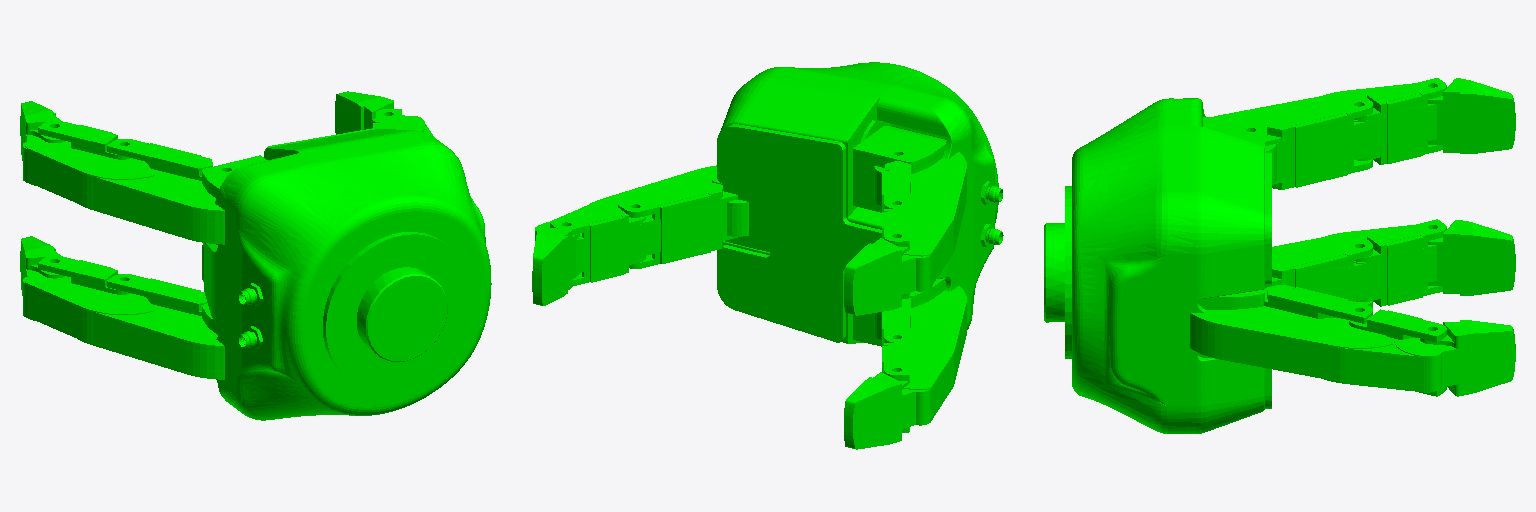
robot.urdf — s-model_articulated:
<?xml version="1.0" ?>
<!-- =================================================================================== -->
<!-- |    This document was autogenerated by xacro from s-model_articulated.xacro      | -->
<!-- |    EDITING THIS FILE BY HAND IS NOT RECOMMENDED                                 | -->
<!-- =================================================================================== -->
<!-- 
s-model_articulated - articulated version of the robotiq s-model,
3 fingered gripper.                                                
-->
<robot name="s-model_articulated" xmlns:xacro="http://ros.org/wiki/xacro">
  <link name="finger_1_link_0">
    <visual>
      <origin rpy="0 0 0" xyz="0.020 0 0"/>
      <geometry>
        <mesh filename="package://robotiq_s_model_visualization/meshes/s-model_articulated/visual/link_0.dae"/>
      </geometry>
      <material name="green">
        <color rgba="0 1 0 1"/>
      </material>
    </visual>
    <collision>
      <origin rpy="0 3.1416 -1.57" xyz="-0.0455 0.0414 0.036"/>
      <geometry>
        <mesh filename="package://robotiq_s_model_visualization/meshes/s-model_articulated/collision/link_0.dae"/>
      </geometry>
      <material name="yellow">
        <color rgba="0 1 1 1"/>
      </material>
    </collision>
    <inertial>
      <origin rpy="0 0 0" xyz="0 0 0"/>
      <mass value="0.05"/>
      <inertia ixx="0.01" ixy="-0.00002" ixz="0.00001" iyy="0.0008" iyz="0" izz="0.001"/>
    </inertial>
  </link>
  <link name="finger_1_link_1">
    <visual>
      <origin rpy="0 0 -0.52" xyz="0.050 -.028 0"/>
      <geometry>
        <mesh filename="package://robotiq_s_model_visualization/meshes/s-model_articulated/visual/link_1.dae"/>
      </geometry>
      <material name="green"/>
    </visual>
    <collision>
      <origin rpy="0 0 -0.52" xyz="0.050 -.028 0"/>
      <geometry>
        <mesh filename="package://robotiq_s_model_visualization/meshes/s-model_articulated/collision/link_1.dae"/>
      </geometry>
      <material name="yellow"/>
    </collision>
    <inertial>
      <origin rpy="0 0 0" xyz="0 0 0"/>
      <mass value="0.15"/>
      <inertia ixx="0.001859" ixy="-0.000376" ixz="0.000028" iyy="0.012756" iyz="0" izz="0.0024"/>
    </inertial>
  </link>
  <link name="finger_1_link_2">
    <!--
			NOTE: This link has an offset in the z-direction based on the models that were
			used to generate grap-it poses.  With the offset below the model appears visually
			correct, but it is suspect.
			-->
    <visual>
      <origin rpy="0 0 0" xyz="0.039 0 0.0075"/>
      <geometry>
        <mesh filename="package://robotiq_s_model_visualization/meshes/s-model_articulated/visual/link_2.dae"/>
      </geometry>
      <material name="green"/>
    </visual>
    <collision>
      <origin rpy="0 0 0" xyz="0.039 0 0.0075"/>
      <geometry>
        <mesh filename="package://robotiq_s_model_visualization/meshes/s-model_articulated/collision/link_2.dae"/>
      </geometry>
      <material name="yellow"/>
    </collision>
    <inertial>
      <origin rpy="0 0 0" xyz="0 0 0"/>
      <mass value="0.15"/>
      <inertia ixx="0.001859" ixy="-0.000376" ixz="0.000028" iyy="0.012756" iyz="0" izz="0.0024"/>
    </inertial>
  </link>
  <link name="finger_1_link_3">
    <visual>
      <origin rpy="0 0 0.52" xyz="0 0 0"/>
      <geometry>
        <mesh filename="package://robotiq_s_model_visualization/meshes/s-model_articulated/visual/link_3.dae"/>
      </geometry>
      <material name="green"/>
    </visual>
    <collision>
      <origin rpy="0 0 0.52" xyz="0 0 0"/>
      <geometry>
        <mesh filename="package://robotiq_s_model_visualization/meshes/s-model_articulated/collision/link_3.dae"/>
      </geometry>
      <material name="yellow"/>
    </collision>
    <inertial>
      <origin rpy="0 0 0" xyz="0 0 0"/>
      <mass value="0.05"/>
      <inertia ixx="0.001239" ixy="-0.000251" ixz="0.000019" iyy="0.00085" iyz="0" izz="0.001632"/>
    </inertial>
  </link>
  <joint name="finger_1_joint_1" type="revolute">
    <parent link="finger_1_link_0"/>
    <child link="finger_1_link_1"/>
    <axis xyz="0 0 1"/>
    <origin rpy="0 0 0" xyz="0.020 0 0"/>
    <limit effort="100" lower="0" upper="3.1416" velocity="100"/>
  </joint>
  <joint name="finger_1_joint_2" type="revolute">
    <parent link="finger_1_link_1"/>
    <child link="finger_1_link_2"/>
    <axis xyz="0 0 1"/>
    <origin rpy="0 0 -0.52" xyz="0.050 -.028 0"/>
    <limit effort="100" lower="0" upper="3.1416" velocity="100"/>
  </joint>
  <joint name="finger_1_joint_3" type="revolute">
    <parent link="finger_1_link_2"/>
    <child link="finger_1_link_3"/>
    <axis xyz="0 0 1"/>
    <origin rpy="0 0 0" xyz="0.039 0 0"/>
    <limit effort="100" lower="0" upper="3.1416" velocity="100"/>
  </joint>
  <link name="finger_2_link_0">
    <visual>
      <origin rpy="0 0 0" xyz="0.020 0 0"/>
      <geometry>
        <mesh filename="package://robotiq_s_model_visualization/meshes/s-model_articulated/visual/link_0.dae"/>
      </geometry>
      <material name="green">
        <color rgba="0 1 0 1"/>
      </material>
    </visual>
    <collision>
      <origin rpy="0 3.1416 -1.57" xyz="-0.0455 0.0414 0.036"/>
      <geometry>
        <mesh filename="package://robotiq_s_model_visualization/meshes/s-model_articulated/collision/link_0.dae"/>
      </geometry>
      <material name="yellow">
        <color rgba="0 1 1 1"/>
      </material>
    </collision>
    <inertial>
      <origin rpy="0 0 0" xyz="0 0 0"/>
      <mass value="0.05"/>
      <inertia ixx="0.01" ixy="-0.00002" ixz="0.00001" iyy="0.0008" iyz="0" izz="0.001"/>
    </inertial>
  </link>
  <link name="finger_2_link_1">
    <visual>
      <origin rpy="0 0 -0.52" xyz="0.050 -.028 0"/>
      <geometry>
        <mesh filename="package://robotiq_s_model_visualization/meshes/s-model_articulated/visual/link_1.dae"/>
      </geometry>
      <material name="green"/>
    </visual>
    <collision>
      <origin rpy="0 0 -0.52" xyz="0.050 -.028 0"/>
      <geometry>
        <mesh filename="package://robotiq_s_model_visualization/meshes/s-model_articulated/collision/link_1.dae"/>
      </geometry>
      <material name="yellow"/>
    </collision>
    <inertial>
      <origin rpy="0 0 0" xyz="0 0 0"/>
      <mass value="0.15"/>
      <inertia ixx="0.001859" ixy="-0.000376" ixz="0.000028" iyy="0.012756" iyz="0" izz="0.0024"/>
    </inertial>
  </link>
  <link name="finger_2_link_2">
    <!--
			NOTE: This link has an offset in the z-direction based on the models that were
			used to generate grap-it poses.  With the offset below the model appears visually
			correct, but it is suspect.
			-->
    <visual>
      <origin rpy="0 0 0" xyz="0.039 0 0.0075"/>
      <geometry>
        <mesh filename="package://robotiq_s_model_visualization/meshes/s-model_articulated/visual/link_2.dae"/>
      </geometry>
      <material name="green"/>
    </visual>
    <collision>
      <origin rpy="0 0 0" xyz="0.039 0 0.0075"/>
      <geometry>
        <mesh filename="package://robotiq_s_model_visualization/meshes/s-model_articulated/collision/link_2.dae"/>
      </geometry>
      <material name="yellow"/>
    </collision>
    <inertial>
      <origin rpy="0 0 0" xyz="0 0 0"/>
      <mass value="0.15"/>
      <inertia ixx="0.001859" ixy="-0.000376" ixz="0.000028" iyy="0.012756" iyz="0" izz="0.0024"/>
    </inertial>
  </link>
  <link name="finger_2_link_3">
    <visual>
      <origin rpy="0 0 0.52" xyz="0 0 0"/>
      <geometry>
        <mesh filename="package://robotiq_s_model_visualization/meshes/s-model_articulated/visual/link_3.dae"/>
      </geometry>
      <material name="green"/>
    </visual>
    <collision>
      <origin rpy="0 0 0.52" xyz="0 0 0"/>
      <geometry>
        <mesh filename="package://robotiq_s_model_visualization/meshes/s-model_articulated/collision/link_3.dae"/>
      </geometry>
      <material name="yellow"/>
    </collision>
    <inertial>
      <origin rpy="0 0 0" xyz="0 0 0"/>
      <mass value="0.05"/>
      <inertia ixx="0.001239" ixy="-0.000251" ixz="0.000019" iyy="0.00085" iyz="0" izz="0.001632"/>
    </inertial>
  </link>
  <joint name="finger_2_joint_1" type="revolute">
    <parent link="finger_2_link_0"/>
    <child link="finger_2_link_1"/>
    <axis xyz="0 0 1"/>
    <origin rpy="0 0 0" xyz="0.020 0 0"/>
    <limit effort="100" lower="0" upper="3.1416" velocity="100"/>
  </joint>
  <joint name="finger_2_joint_2" type="revolute">
    <parent link="finger_2_link_1"/>
    <child link="finger_2_link_2"/>
    <axis xyz="0 0 1"/>
    <origin rpy="0 0 -0.52" xyz="0.050 -.028 0"/>
    <limit effort="100" lower="0" upper="3.1416" velocity="100"/>
  </joint>
  <joint name="finger_2_joint_3" type="revolute">
    <parent link="finger_2_link_2"/>
    <child link="finger_2_link_3"/>
    <axis xyz="0 0 1"/>
    <origin rpy="0 0 0" xyz="0.039 0 0"/>
    <limit effort="100" lower="0" upper="3.1416" velocity="100"/>
  </joint>
  <link name="finger_middle_link_0">
    <visual>
      <origin rpy="0 0 0" xyz="0.020 0 0"/>
      <geometry>
        <mesh filename="package://robotiq_s_model_visualization/meshes/s-model_articulated/visual/link_0.dae"/>
      </geometry>
      <material name="green">
        <color rgba="0 1 0 1"/>
      </material>
    </visual>
    <collision>
      <origin rpy="0 3.1416 -1.57" xyz="-0.0455 0.0414 0.036"/>
      <geometry>
        <mesh filename="package://robotiq_s_model_visualization/meshes/s-model_articulated/collision/link_0.dae"/>
      </geometry>
      <material name="yellow">
        <color rgba="0 1 1 1"/>
      </material>
    </collision>
    <inertial>
      <origin rpy="0 0 0" xyz="0 0 0"/>
      <mass value="0.05"/>
      <inertia ixx="0.01" ixy="-0.00002" ixz="0.00001" iyy="0.0008" iyz="0" izz="0.001"/>
    </inertial>
  </link>
  <link name="finger_middle_link_1">
    <visual>
      <origin rpy="0 0 -0.52" xyz="0.050 -.028 0"/>
      <geometry>
        <mesh filename="package://robotiq_s_model_visualization/meshes/s-model_articulated/visual/link_1.dae"/>
      </geometry>
      <material name="green"/>
    </visual>
    <collision>
      <origin rpy="0 0 -0.52" xyz="0.050 -.028 0"/>
      <geometry>
        <mesh filename="package://robotiq_s_model_visualization/meshes/s-model_articulated/collision/link_1.dae"/>
      </geometry>
      <material name="yellow"/>
    </collision>
    <inertial>
      <origin rpy="0 0 0" xyz="0 0 0"/>
      <mass value="0.15"/>
      <inertia ixx="0.001859" ixy="-0.000376" ixz="0.000028" iyy="0.012756" iyz="0" izz="0.0024"/>
    </inertial>
  </link>
  <link name="finger_middle_link_2">
    <!--
			NOTE: This link has an offset in the z-direction based on the models that were
			used to generate grap-it poses.  With the offset below the model appears visually
			correct, but it is suspect.
			-->
    <visual>
      <origin rpy="0 0 0" xyz="0.039 0 0.0075"/>
      <geometry>
        <mesh filename="package://robotiq_s_model_visualization/meshes/s-model_articulated/visual/link_2.dae"/>
      </geometry>
      <material name="green"/>
    </visual>
    <collision>
      <origin rpy="0 0 0" xyz="0.039 0 0.0075"/>
      <geometry>
        <mesh filename="package://robotiq_s_model_visualization/meshes/s-model_articulated/collision/link_2.dae"/>
      </geometry>
      <material name="yellow"/>
    </collision>
    <inertial>
      <origin rpy="0 0 0" xyz="0 0 0"/>
      <mass value="0.15"/>
      <inertia ixx="0.001859" ixy="-0.000376" ixz="0.000028" iyy="0.012756" iyz="0" izz="0.0024"/>
    </inertial>
  </link>
  <link name="finger_middle_link_3">
    <visual>
      <origin rpy="0 0 0.52" xyz="0 0 0"/>
      <geometry>
        <mesh filename="package://robotiq_s_model_visualization/meshes/s-model_articulated/visual/link_3.dae"/>
      </geometry>
      <material name="green"/>
    </visual>
    <collision>
      <origin rpy="0 0 0.52" xyz="0 0 0"/>
      <geometry>
        <mesh filename="package://robotiq_s_model_visualization/meshes/s-model_articulated/collision/link_3.dae"/>
      </geometry>
      <material name="yellow"/>
    </collision>
    <inertial>
      <origin rpy="0 0 0" xyz="0 0 0"/>
      <mass value="0.05"/>
      <inertia ixx="0.001239" ixy="-0.000251" ixz="0.000019" iyy="0.00085" iyz="0" izz="0.001632"/>
    </inertial>
  </link>
  <joint name="finger_middle_joint_1" type="revolute">
    <parent link="finger_middle_link_0"/>
    <child link="finger_middle_link_1"/>
    <axis xyz="0 0 1"/>
    <origin rpy="0 0 0" xyz="0.020 0 0"/>
    <limit effort="100" lower="0" upper="3.1416" velocity="100"/>
  </joint>
  <joint name="finger_middle_joint_2" type="revolute">
    <parent link="finger_middle_link_1"/>
    <child link="finger_middle_link_2"/>
    <axis xyz="0 0 1"/>
    <origin rpy="0 0 -0.52" xyz="0.050 -.028 0"/>
    <limit effort="100" lower="0" upper="3.1416" velocity="100"/>
  </joint>
  <joint name="finger_middle_joint_3" type="revolute">
    <parent link="finger_middle_link_2"/>
    <child link="finger_middle_link_3"/>
    <axis xyz="0 0 1"/>
    <origin rpy="0 0 0" xyz="0.039 0 0"/>
    <limit effort="100" lower="0" upper="3.1416" velocity="100"/>
  </joint>
  <link name="palm">
    <visual>
      <geometry>
        <mesh filename="package://robotiq_s_model_visualization/meshes/s-model_articulated/visual/palm.dae"/>
      </geometry>
      <material name="green">
        <color rgba="0 1 0 1"/>
      </material>
    </visual>
    <collision>
      <geometry>
        <mesh filename="package://robotiq_s_model_visualization/meshes/s-model_articulated/collision/palm.dae"/>
      </geometry>
      <material name="yellow">
        <color rgba="0 1 1 1"/>
      </material>
    </collision>
  </link>
  <inertial>
    <origin rpy="0 0 0" xyz="0 0 0"/>
    <mass value="1.3"/>
    <inertia ixx="0.006012" ixy="0.000079" ixz="-0.00024" iyy="0.012892" iyz="0" izz="0.002435"/>
  </inertial>
  <joint name="palm_finger_1_joint" type="revolute">
    <parent link="palm"/>
    <child link="finger_1_link_0"/>
    <axis xyz="0 1 0"/>
    <origin rpy="0 3.1416 -1.57" xyz="-0.0455 0.0214 0.036"/>
    <limit effort="100" lower="-0.16" upper="0.25" velocity="100"/>
  </joint>
  <joint name="palm_finger_2_joint" type="revolute">
    <parent link="palm"/>
    <child link="finger_2_link_0"/>
    <axis xyz="0 1 0"/>
    <origin rpy="0 3.1416 -1.57" xyz="-0.0455 0.0214 -0.036"/>
    <limit effort="100" lower="-0.25" upper="0.16" velocity="100"/>
  </joint>
  <joint name="palm_finger_middle_joint" type="fixed">
    <parent link="palm"/>
    <child link="finger_middle_link_0"/>
    <axis xyz="0 0 1"/>
    <origin rpy="0 0 1.57" xyz="0.0455 0.0214 0"/>
  </joint>
  <!--
	<include filename="$(find robotiq_s_model_visualization)/cfg/s-model_finger_articulated_macro.xacro" />
	<xacro:s-model_finger_articulated prefix=""/>
-->
</robot>

--- Facts derived from the render (not from the file) ---
The picture shows the robot from 3 angles, left to right: view 1: azimuth 30°, elevation 25°; view 2: azimuth 150°, elevation 25°; view 3: azimuth 270°, elevation 25°; orthographic projection.
Model s-model_articulated with 13 links and 12 joints (11 revolute, 1 fixed), rooted at palm, posed every joint at zero.
Visible links, largest first — view 1: palm, finger_1_link_1, finger_2_link_1, finger_1_link_2, finger_2_link_2, finger_middle_link_3, finger_1_link_3, finger_2_link_3, finger_1_link_0, finger_middle_link_2; view 2: palm, finger_middle_link_1, finger_1_link_3, finger_2_link_3, finger_middle_link_2, finger_1_link_1, finger_1_link_2, finger_2_link_2, finger_1_link_0, finger_2_link_1, finger_middle_link_3, finger_middle_link_0 (+1 smaller); view 3: palm, finger_middle_link_1, finger_1_link_1, finger_middle_link_3, finger_2_link_2, finger_1_link_2, finger_middle_link_2, finger_1_link_3, finger_2_link_3, finger_2_link_1, finger_1_link_0, finger_middle_link_0.
Link boxes in pixels (x1,y1,x2,y2): palm: [202, 128, 491, 420]; finger_1_link_1: [79, 139, 224, 244]; finger_2_link_1: [78, 274, 224, 379]; finger_1_link_2: [25, 120, 154, 208]; finger_2_link_2: [25, 256, 154, 343]; finger_middle_link_3: [335, 91, 425, 134]; finger_1_link_3: [20, 101, 64, 185]; finger_2_link_3: [20, 236, 64, 320]; finger_1_link_0: [202, 155, 267, 244]; finger_middle_link_2: [373, 109, 434, 137]; palm: [717, 62, 1003, 343]; finger_middle_link_1: [579, 165, 748, 268]; finger_1_link_3: [844, 238, 932, 315]; finger_2_link_3: [844, 372, 932, 449]; finger_middle_link_2: [550, 206, 645, 285]; finger_1_link_1: [874, 152, 966, 250]; finger_1_link_2: [882, 193, 954, 298]; finger_2_link_2: [882, 327, 954, 432]; finger_1_link_0: [853, 126, 946, 212]; finger_2_link_1: [874, 286, 966, 379]; finger_middle_link_3: [532, 220, 579, 305]; finger_middle_link_0: [712, 173, 769, 251]; palm: [1044, 98, 1271, 433]; finger_middle_link_1: [1190, 285, 1392, 380]; finger_1_link_1: [1214, 96, 1372, 189]; finger_middle_link_3: [1394, 320, 1515, 396]; finger_2_link_2: [1302, 219, 1446, 306]; finger_1_link_2: [1301, 78, 1446, 164]; finger_middle_link_2: [1324, 309, 1446, 396]; finger_1_link_3: [1428, 78, 1515, 153]; finger_2_link_3: [1428, 220, 1515, 295]; finger_2_link_1: [1272, 237, 1372, 307]; finger_1_link_0: [1203, 117, 1264, 147]; finger_middle_link_0: [1198, 289, 1264, 357].
Bounding box of the posed robot: 0.2214 × 0.2173 × 0.1302 m (x, y, z).
Meshes: 5 distinct files referenced, 13 mesh visuals loaded (5 Collada DAE).